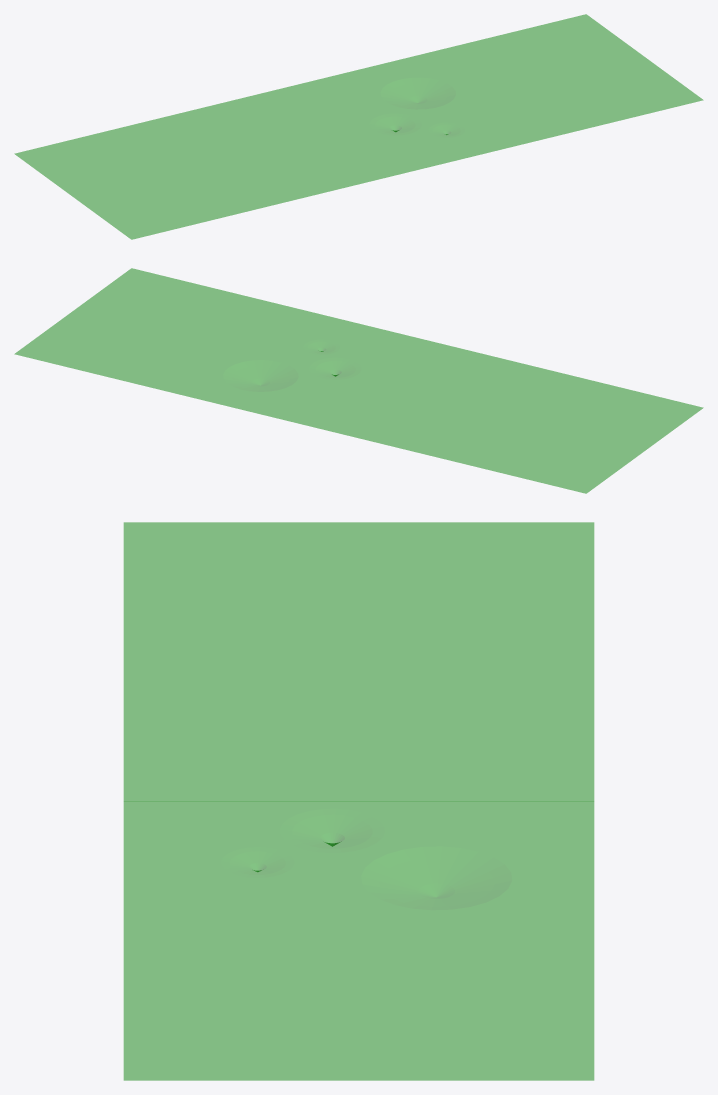
Rendered from sea_na_water2.obj.
3 renders of one model, top to bottom at view 1: azimuth 30°, elevation 25°; view 2: azimuth 150°, elevation 25°; view 3: azimuth 270°, elevation 25°, orthographic. The views are drawn at different scales.
Bounding box in the file's own units: 495 × 7.91 × 176.
